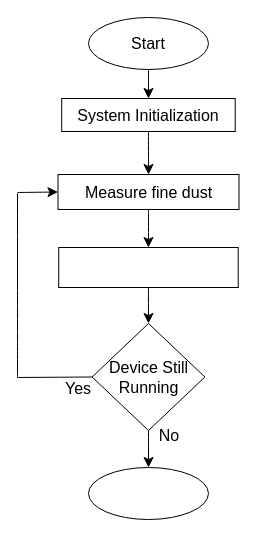
Some shapes in this 257 by 537 pixel diagram are drawn without their labels. Here are the shapes that lost their labels. From the top down, the centre of each, then its label:
At point (148, 267): "Display Fine Dust".
At point (148, 493): "End".
